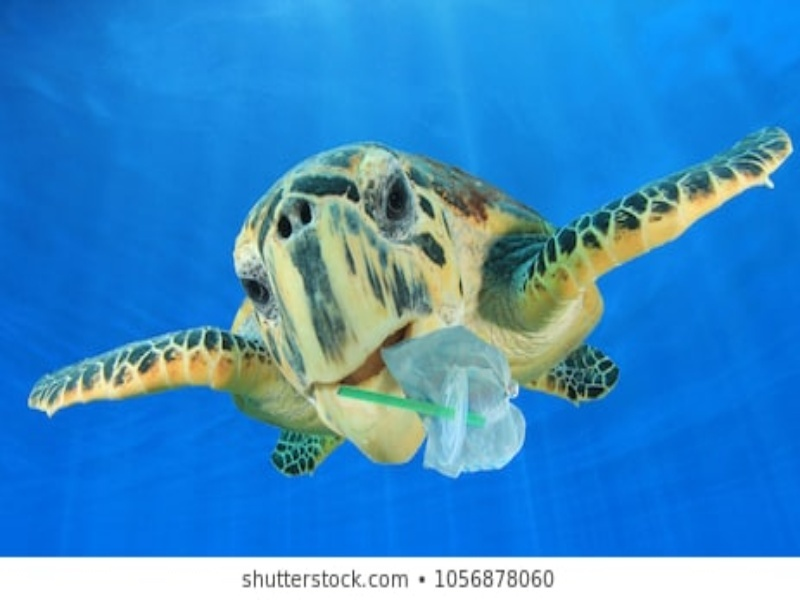plastic-bag: (378, 322, 525, 476)
straw: (334, 381, 487, 432)
